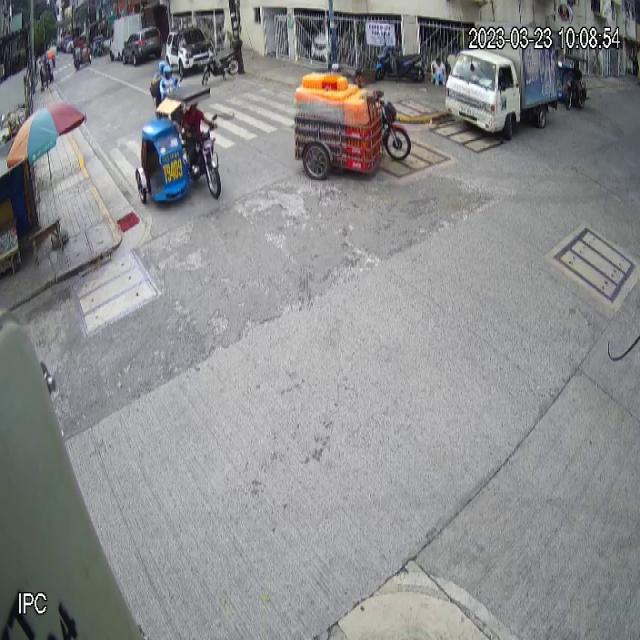Tricycle: (135, 84, 222, 204)
Truck: (444, 31, 560, 138)
